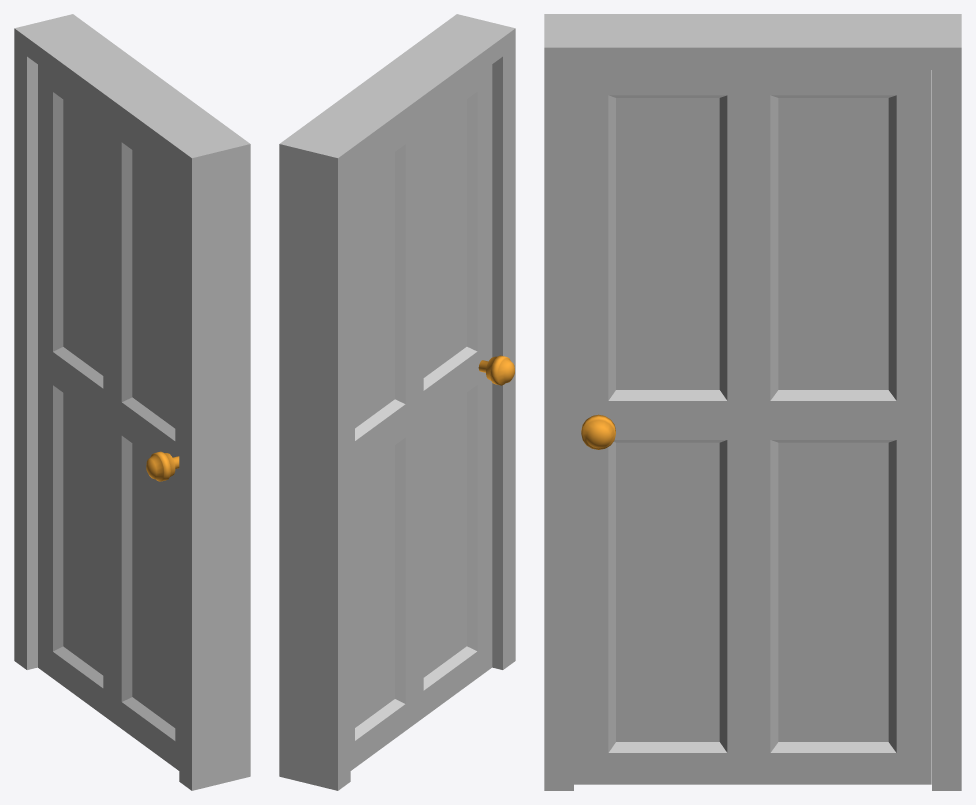
Rendered from Door_01.glb.
The picture shows the model from 3 angles, left to right: view 1: azimuth 30°, elevation 25°; view 2: azimuth 150°, elevation 25°; view 3: azimuth 270°, elevation 25°; orthographic projection. The views are drawn at different scales.
Visible parts, largest first — view 1: Door, Door_Frame; view 2: Door, Door_Frame; view 3: Door, Door_Frame.
Boxes of the visible parts, bbox=[...] form: Door: bbox=[38, 65, 179, 770]; Door_Frame: bbox=[14, 14, 250, 790]; Door: bbox=[350, 64, 514, 770]; Door_Frame: bbox=[279, 14, 515, 790]; Door: bbox=[574, 70, 931, 784]; Door_Frame: bbox=[544, 14, 961, 790].
Size of the model in its own units: 0.3415 by 2.06 by 1.05.
Materials: 1 (1 with a texture image).
